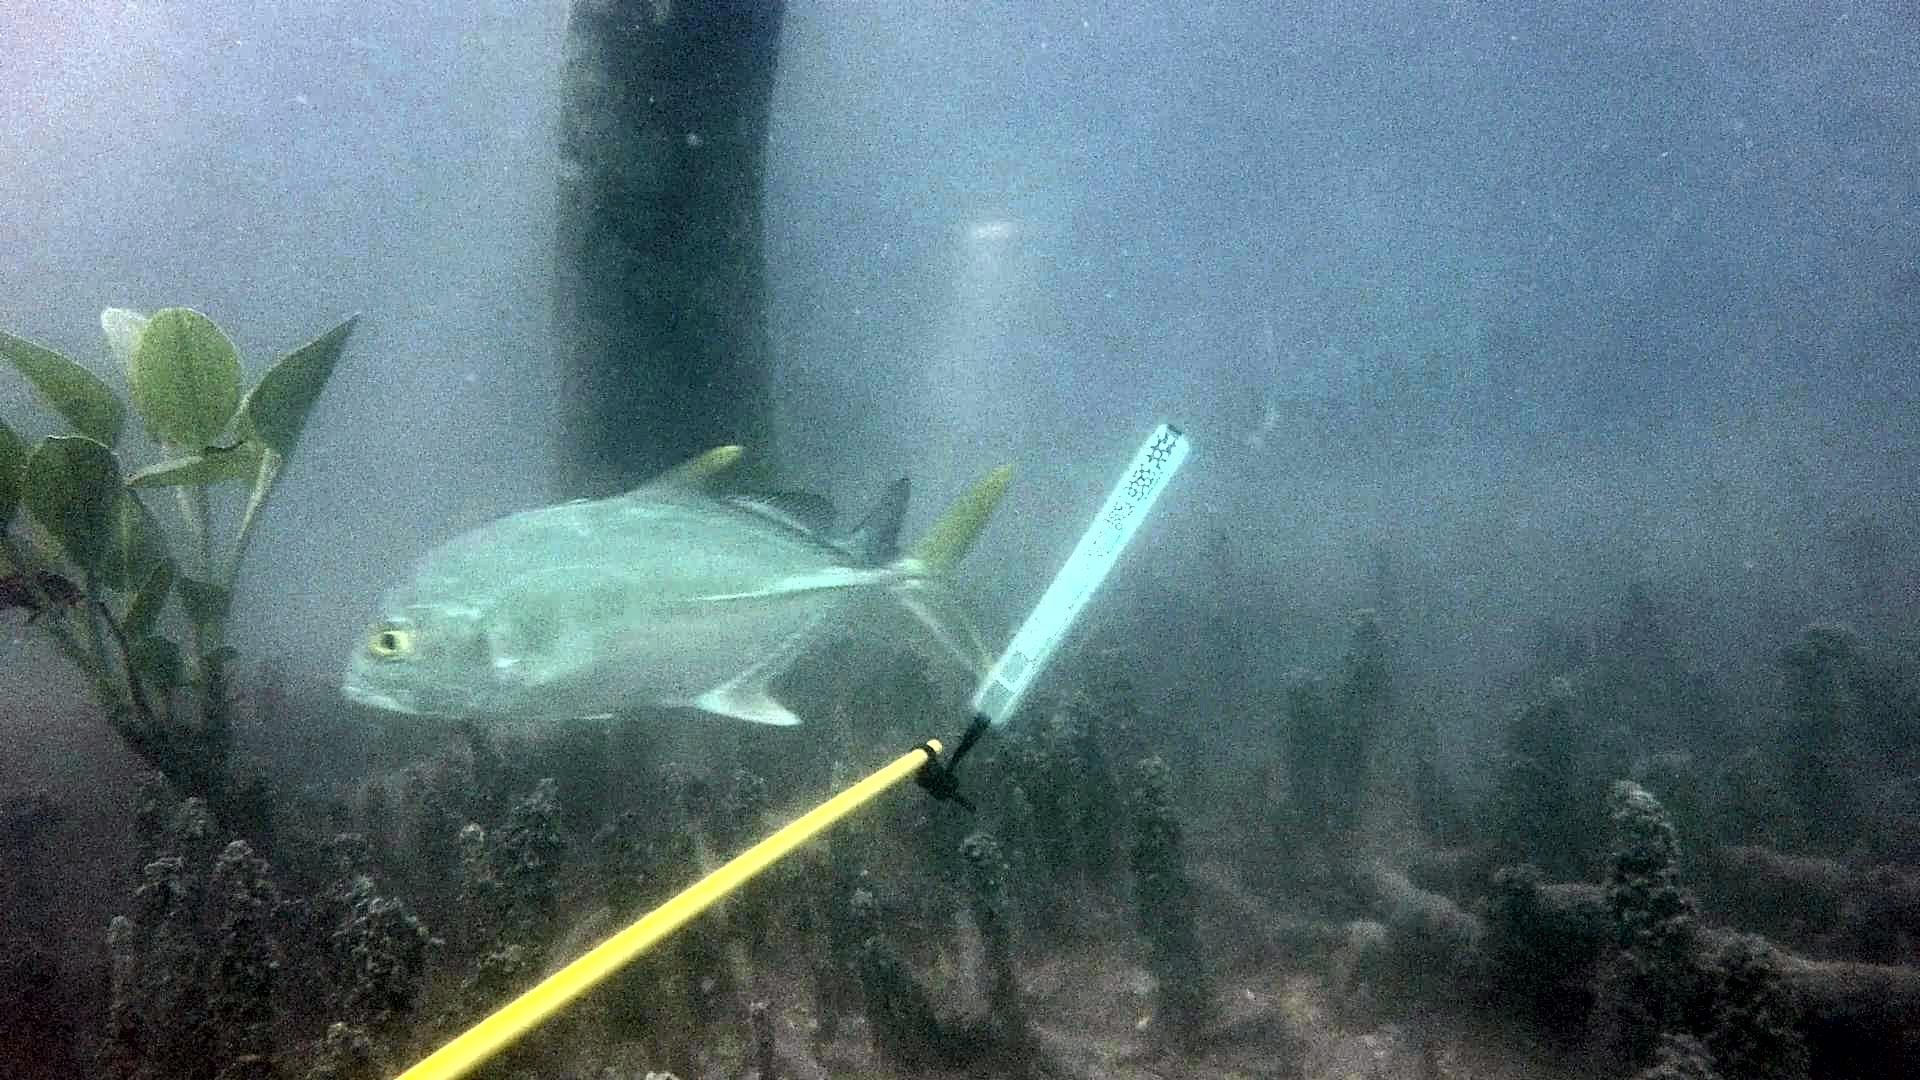caranx: (336, 435, 1031, 745)
